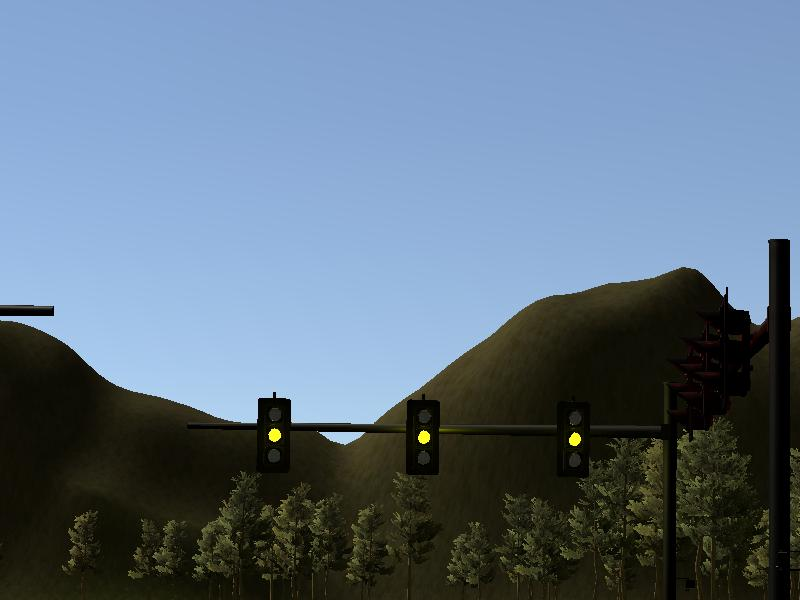yellow: (555, 399, 592, 479), (256, 396, 291, 474), (405, 397, 439, 477)
